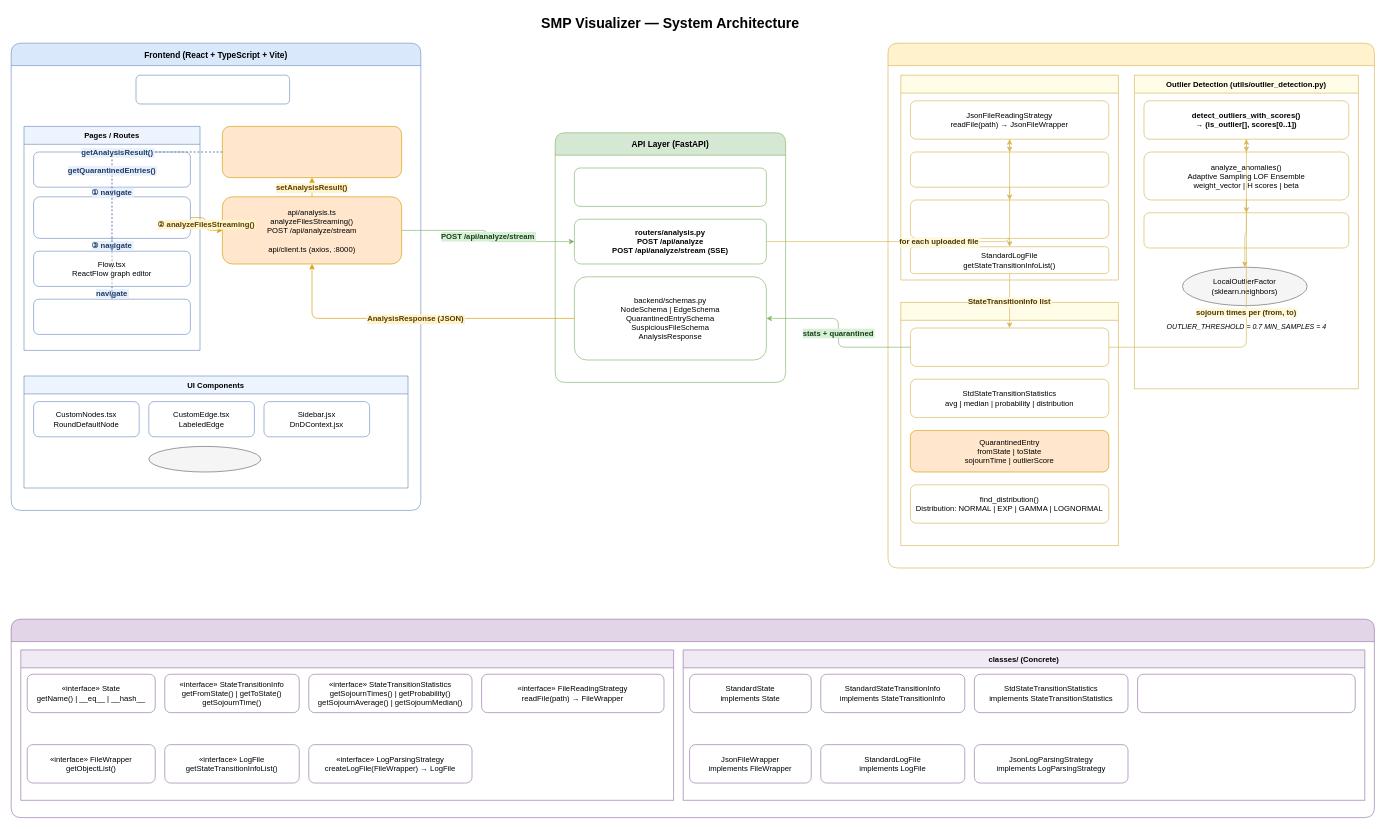
Image size: 1386x829. Some labels were removed from this diagram. The shapes that lost their labels are listed below. From the top down, each one's box as (x1, y1, x2, y2) in pixels, then its label:
(135, 75, 290, 104): App.tsx (BrowserRouter)
(33, 151, 190, 187): Home.tsx file upload + project load
(222, 126, 402, 178): store.ts pendingFiles | analysisResult currentGraph | quarantinedEntries
(910, 151, 1109, 187): JsonFileWrapper list[dict[str, str]]
(574, 167, 766, 206): backend/main.py FastAPI app + CORS Middleware
(900, 75, 1118, 280): File Reading Pipeline
(33, 196, 190, 238): Loading.tsx calls analyzeFilesStreaming() shows progress bar
(910, 199, 1109, 238): JsonLogParsingStrategy createLogFile(wrapper) → LogFile
(1143, 212, 1349, 248): calc_WB(score) weight update θ=0.2 α=0.2
(33, 299, 190, 334): Statistics.tsx stats table + quarantine section
(887, 43, 1374, 568): Backend Processing (Python)
(910, 327, 1109, 366): calculateStatistics() groups entries by (from_state, to_state)
(900, 302, 1118, 546): Statistics Pipeline (utils/statistics.py)
(148, 446, 261, 472): @xyflow/react v12
(1137, 674, 1355, 713): JsonFileReadingStrategy implements FileReadingStrategy
(20, 649, 674, 800): src/interfaces/ (Abstract)
(11, 619, 1374, 818): Domain Model — Strategy Pattern (src/interfaces/ + classes/)
